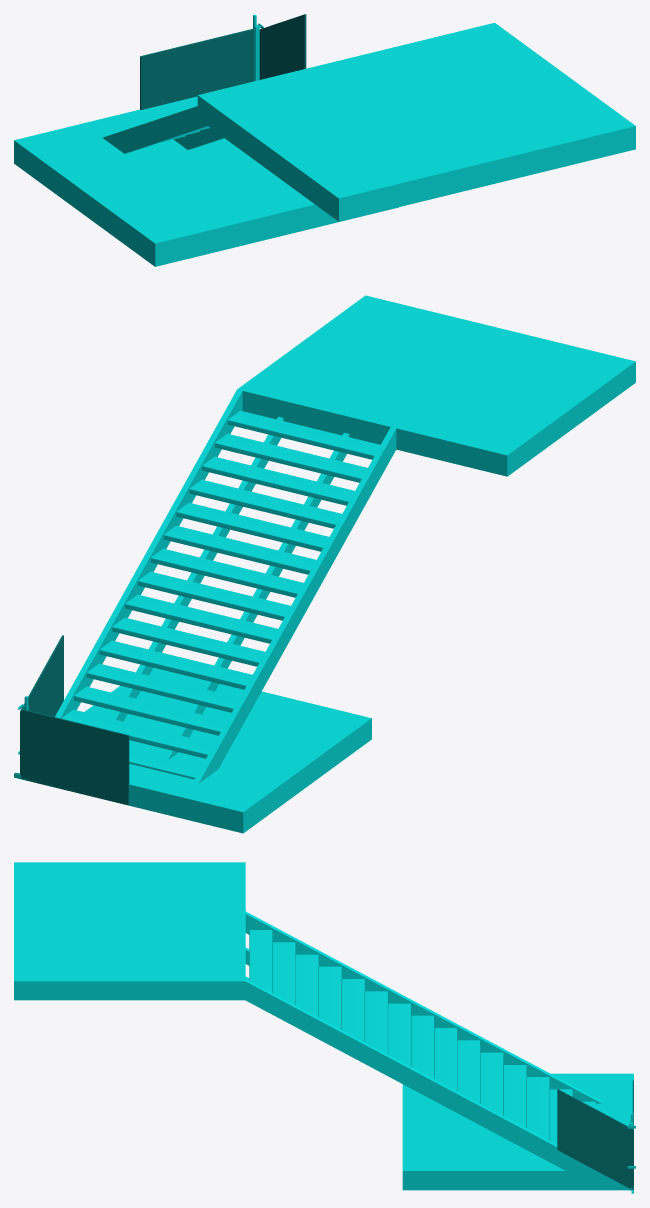
File: balcony_module.fbx
3 renders of one model, top to bottom at view 1: azimuth 30°, elevation 25°; view 2: azimuth 150°, elevation 25°; view 3: azimuth 270°, elevation 25°, orthographic. The views are drawn at different scales.
Parts seen in each view (by area): view 1: steps, balcony_module_1, glass_balcony_1, glass_steps_1; view 2: steps, balcony_module_1, glass_balcony_1, glass_steps_1; view 3: steps, balcony_module_1, glass_steps_1.
Part boxes in pixels (x1,y1,x2,y2): steps: [103, 22, 635, 221]; balcony_module_1: [14, 96, 398, 266]; glass_balcony_1: [140, 29, 253, 109]; glass_steps_1: [259, 14, 306, 79]; steps: [55, 295, 635, 817]; balcony_module_1: [23, 668, 371, 833]; glass_balcony_1: [21, 709, 129, 805]; glass_steps_1: [20, 635, 63, 775]; steps: [14, 862, 630, 1190]; balcony_module_1: [402, 1073, 633, 1190]; glass_steps_1: [557, 1089, 633, 1190].
Bounding box in the file's own units: 375 × 300 × 808.
